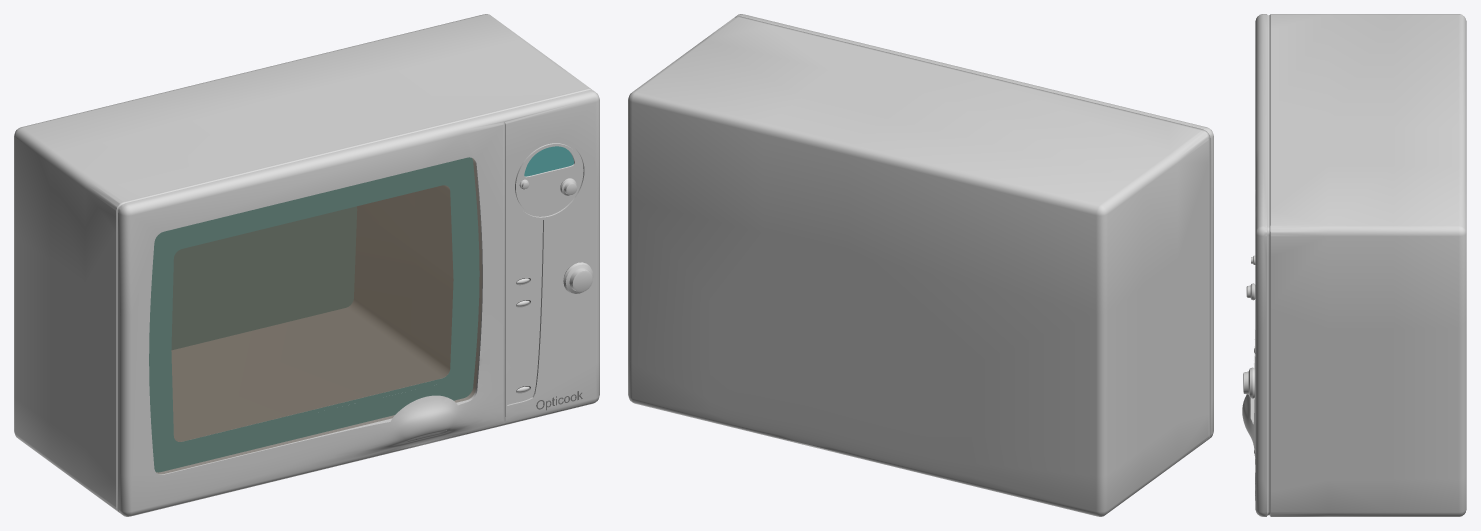
The model's file is Microwave.fbx.
3 views of the same model, side by side, from view 1: azimuth 30°, elevation 25°; view 2: azimuth 150°, elevation 25°; view 3: azimuth 270°, elevation 25° (orthographic). The views are drawn at different scales.
Parts seen in each view (by area): view 1: micwave1_Object__0; view 2: micwave1_Object__0; view 3: micwave1_Object__0.
Boxes of the visible parts, x1,y1,x2,y2 form: micwave1_Object__0: (14,14,599,516); micwave1_Object__0: (628,14,1213,516); micwave1_Object__0: (1242,14,1466,516).
Size of the model in its own units: 72.54 by 45.13 by 31.61.
